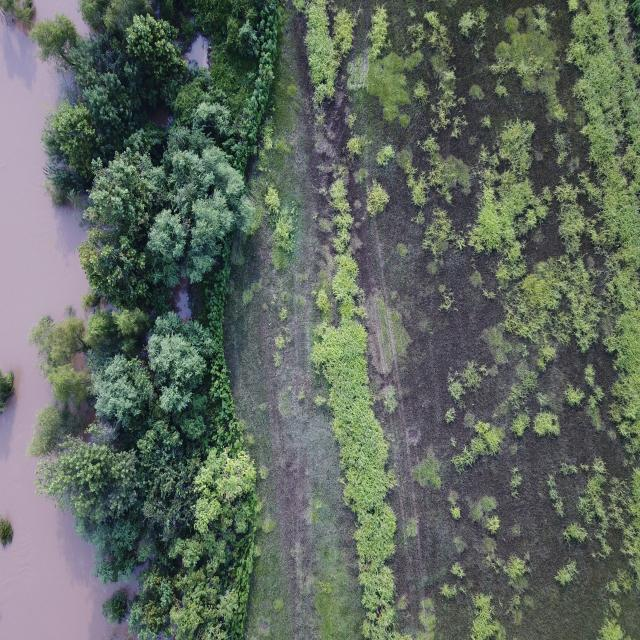fire: (0, 20, 126, 639)
